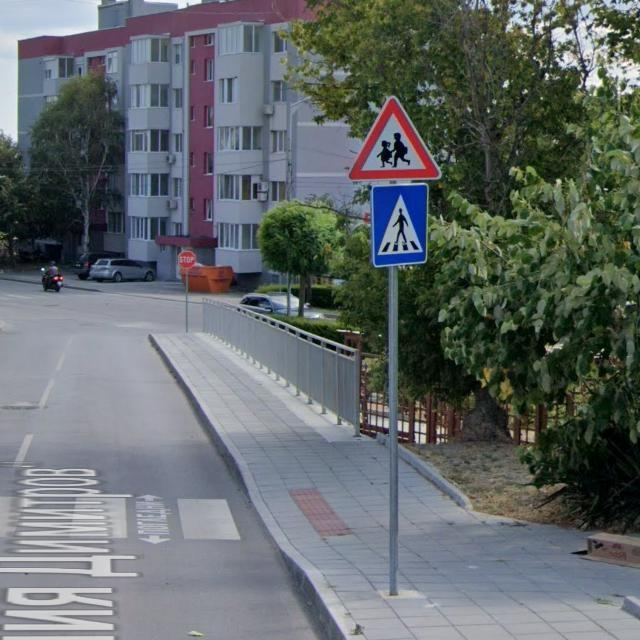info_crosswalk: (369, 184, 432, 267)
